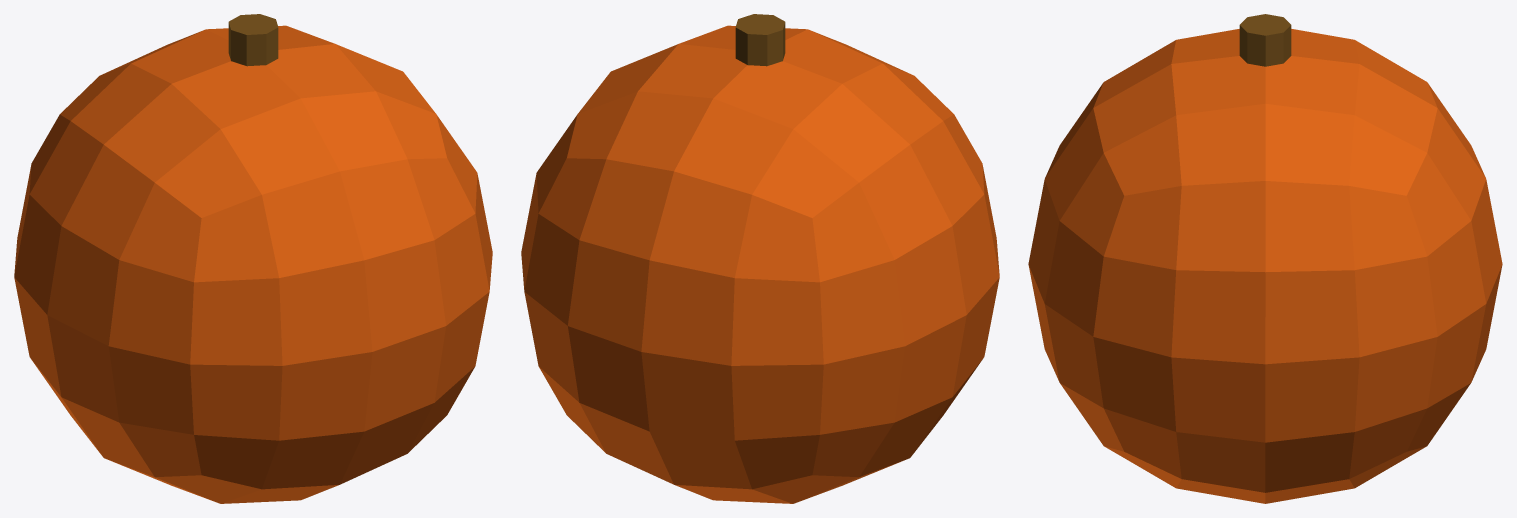
The model's file is Citrus.fbx.
3 views of the same model, side by side, from view 1: azimuth 30°, elevation 25°; view 2: azimuth 150°, elevation 25°; view 3: azimuth 270°, elevation 25° (orthographic).
Parts seen in each view (by area): view 1: Citrus; view 2: Citrus; view 3: Citrus.
Boxes of the visible parts, x1,y1,x2,y2 form: Citrus: (14, 14, 492, 503); Citrus: (521, 14, 999, 503); Citrus: (1028, 14, 1502, 503).
Bounding box in the file's own units: 32.89 × 34.76 × 32.89.
